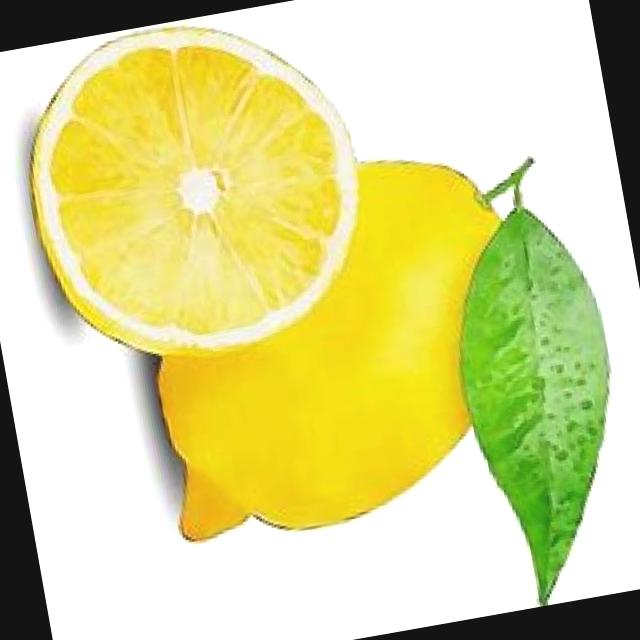mango: (108, 148, 561, 584), (7, 0, 404, 380)
